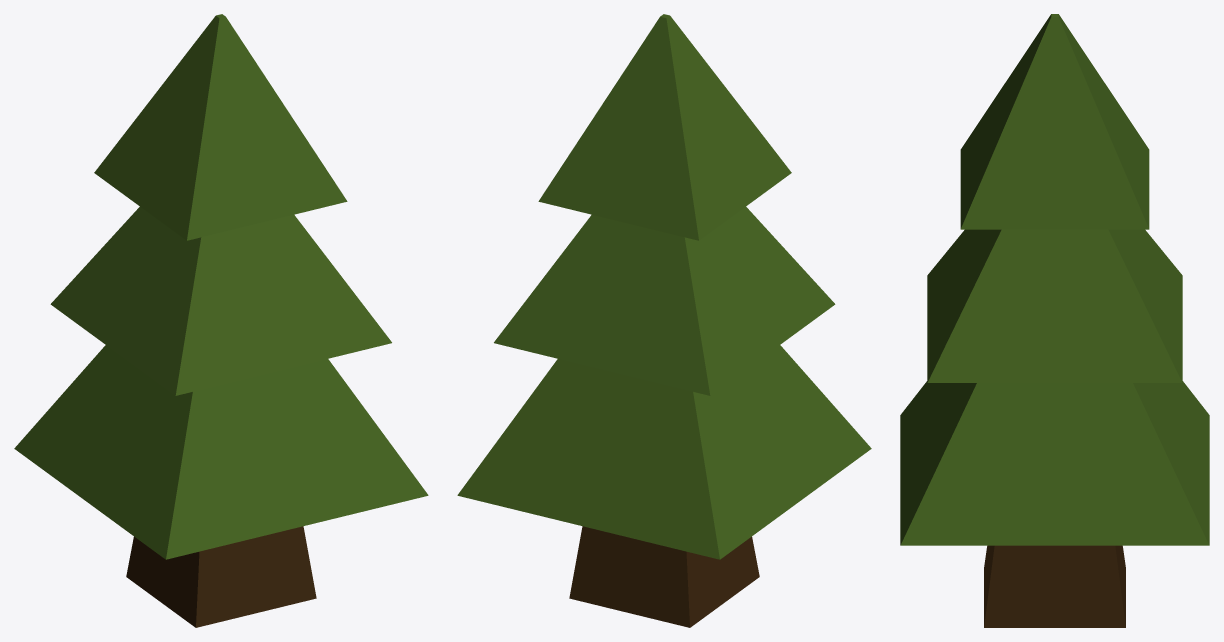
The model's file is spruce.glb.
3 renders of one model, left to right at view 1: azimuth 30°, elevation 25°; view 2: azimuth 150°, elevation 25°; view 3: azimuth 270°, elevation 25°, orthographic.
Parts seen in each view (by area): view 1: Cube; view 2: Cube; view 3: Cube.
Boxes of the visible parts, x1,y1,x2,y2 form: Cube: (14, 14, 428, 627); Cube: (457, 14, 871, 627); Cube: (900, 14, 1209, 627).
Bounding box in the file's own units: 4.35 × 9.05 × 4.35.
